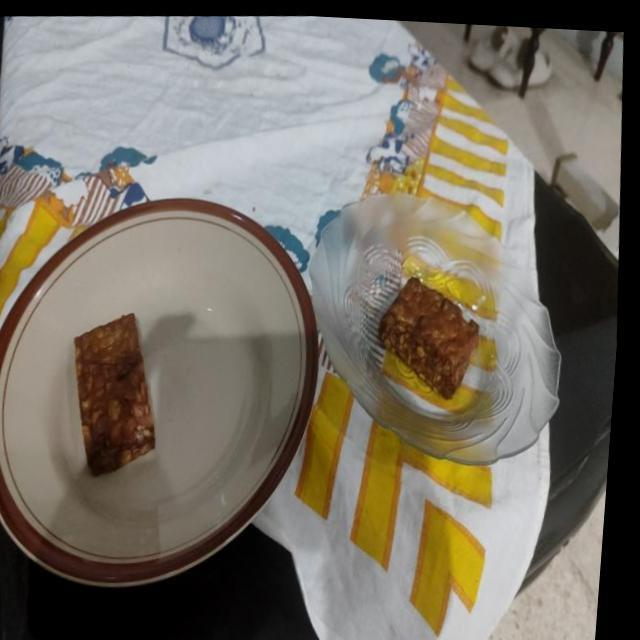tempe_goreng: (74, 314, 155, 476), (378, 277, 478, 398)
